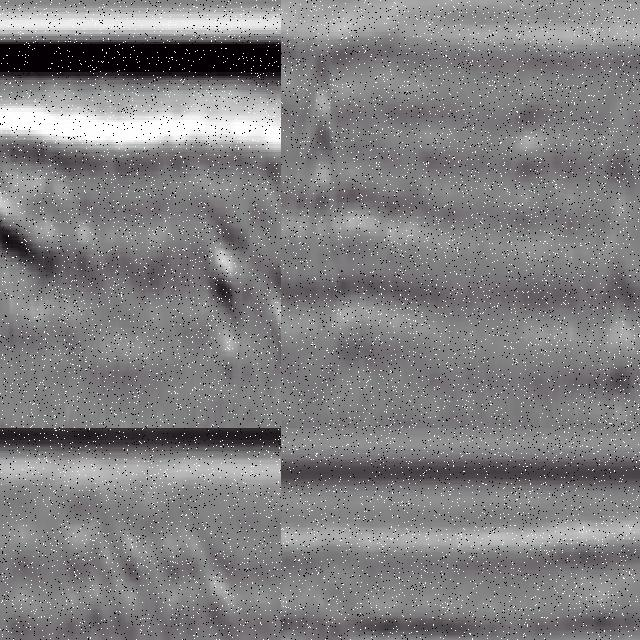crack: (289, 13, 342, 325)
loose: (1, 517, 230, 640), (1, 115, 157, 295)
